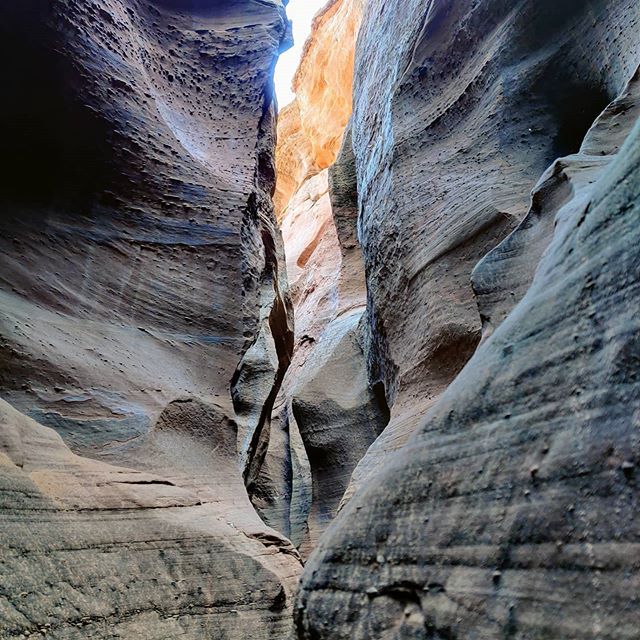rocks: (1, 1, 640, 638)
